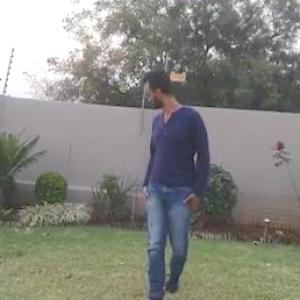follow: (128, 63, 212, 299)
